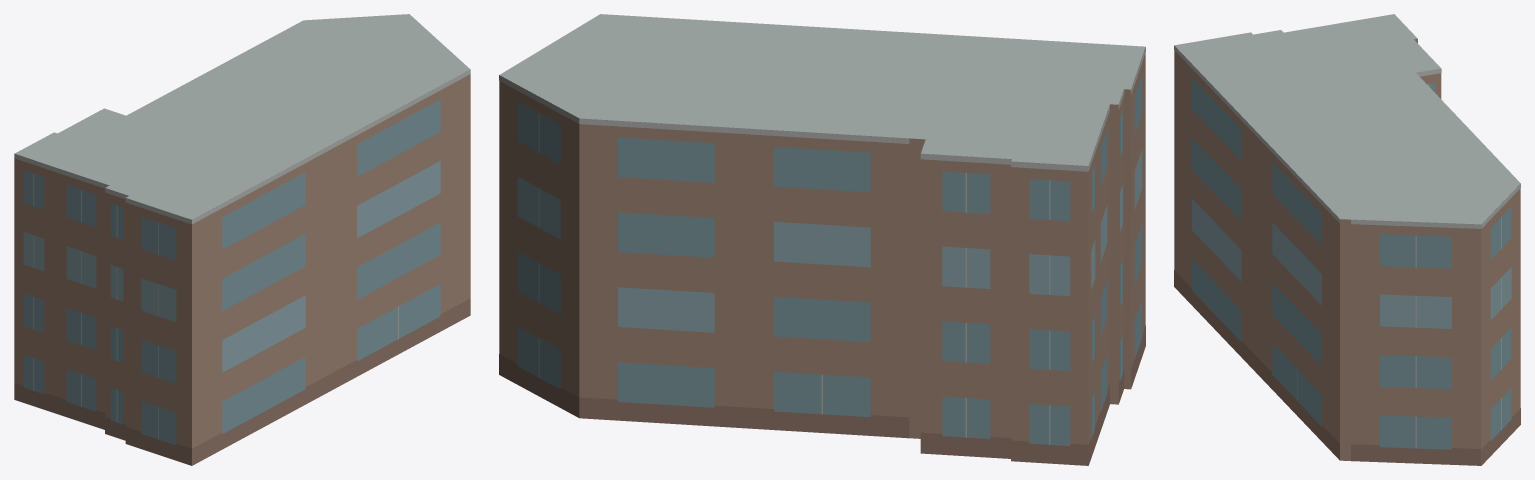
File: survey-upis-32980820.glb
3 renders of one model, left to right at view 1: azimuth 30°, elevation 25°; view 2: azimuth 150°, elevation 25°; view 3: azimuth 270°, elevation 25°, orthographic. The views are drawn at different scales.
Parts seen in each view (by area): view 1: survey-upis-32980820.tmp; view 2: survey-upis-32980820.tmp; view 3: survey-upis-32980820.tmp.
Boxes of the visible parts, box(x1,y1,x2,y2) form: survey-upis-32980820.tmp: box(14, 14, 470, 465); survey-upis-32980820.tmp: box(499, 14, 1145, 465); survey-upis-32980820.tmp: box(1174, 14, 1520, 465).
Bounding box in the file's own units: 24.04 × 12.86 × 16.74.
